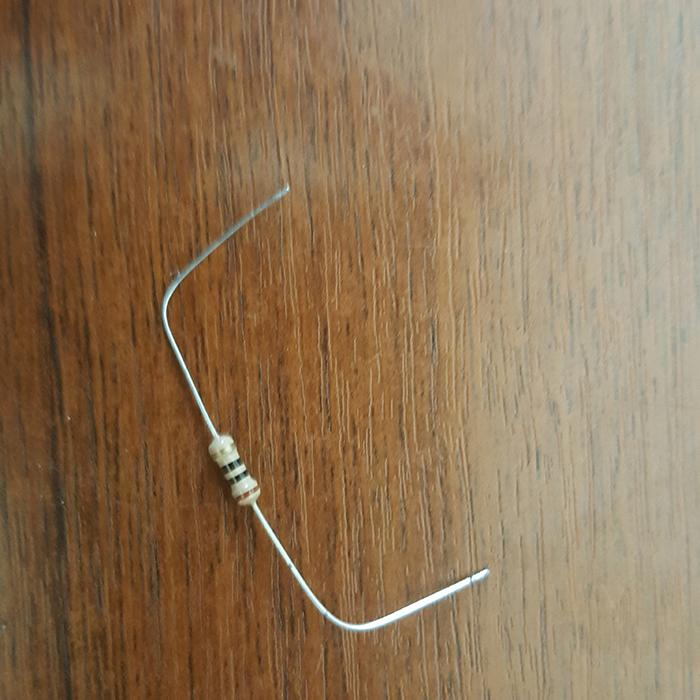resistor: (207, 432, 260, 507)
